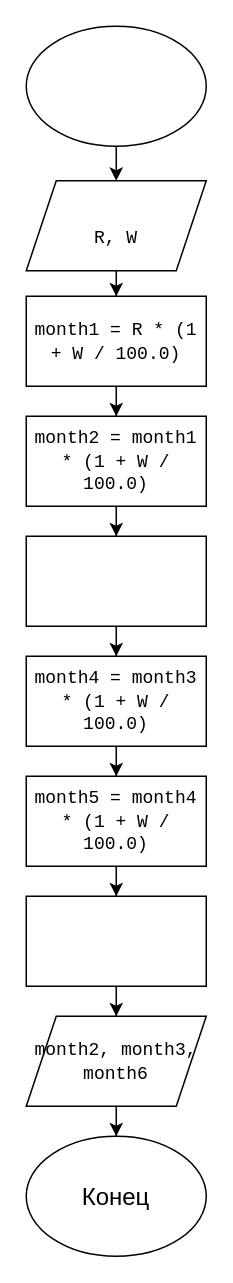
The diagram is 233 pixels wide and 1283 high, and some of its shapes have lost their labels. Here are the shapes that lost their labels. From the top down, the centre of each, then its label:
the point at 115,85: Начало
the point at 115,580: month3 = month2 * (1 + W / 100.0)
the point at 115,940: month6 = month5 * (1 + W / 100.0)
